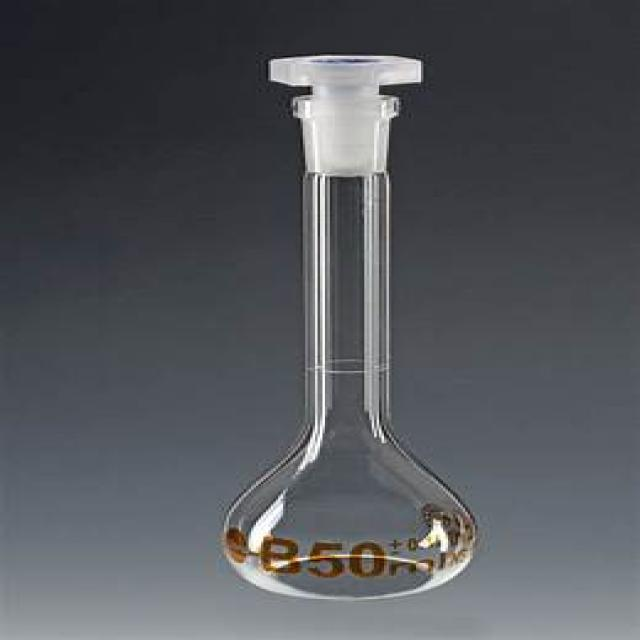Volumetric flask: (215, 37, 481, 592)
